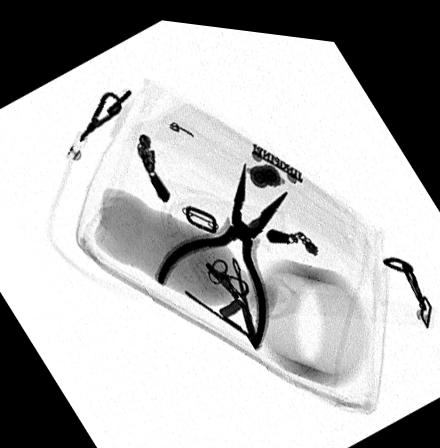Pliers: (154, 153, 290, 341)
